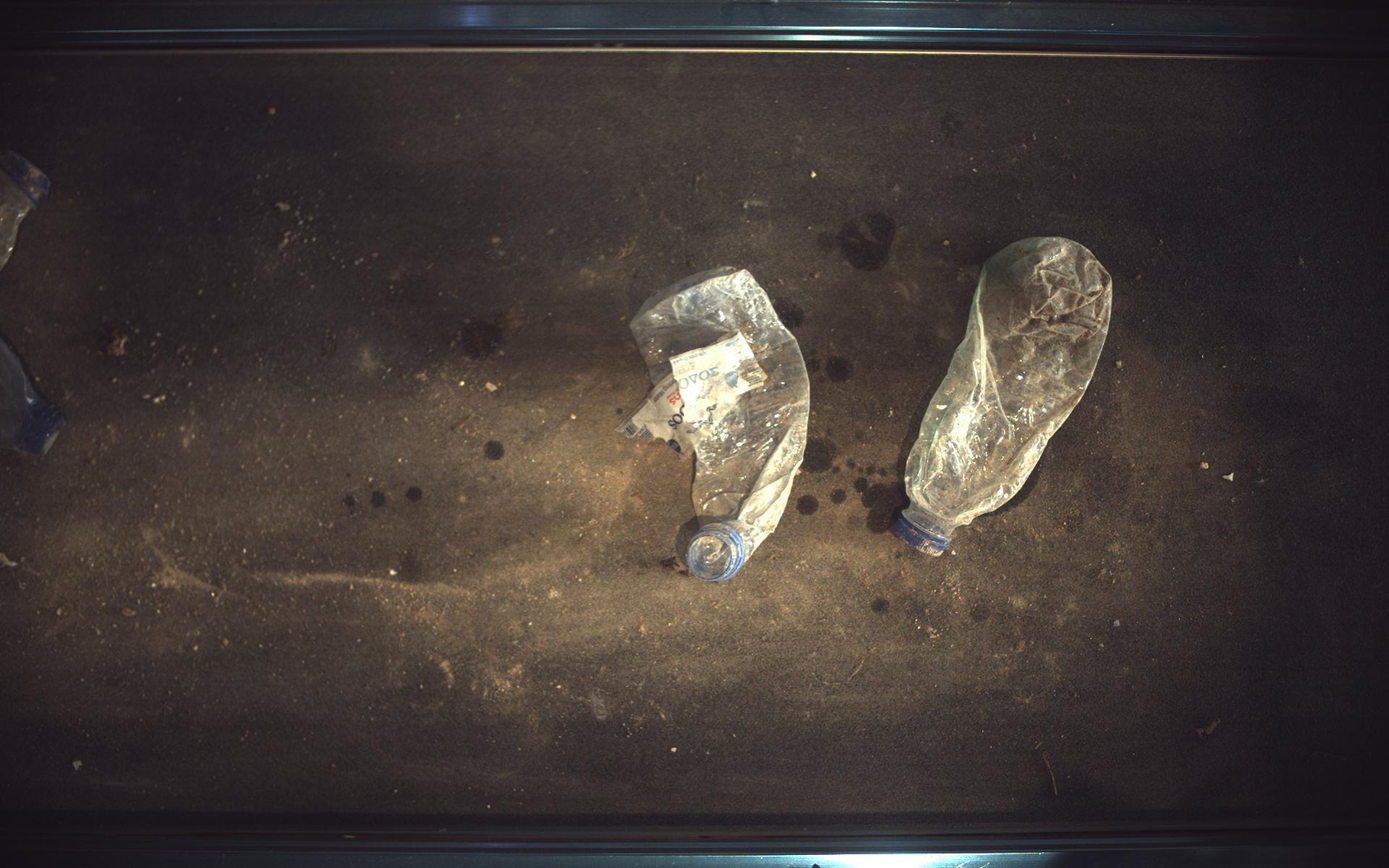general_w: (896, 237, 1114, 556), (621, 267, 811, 583), (1, 339, 64, 456), (1, 148, 48, 268)
